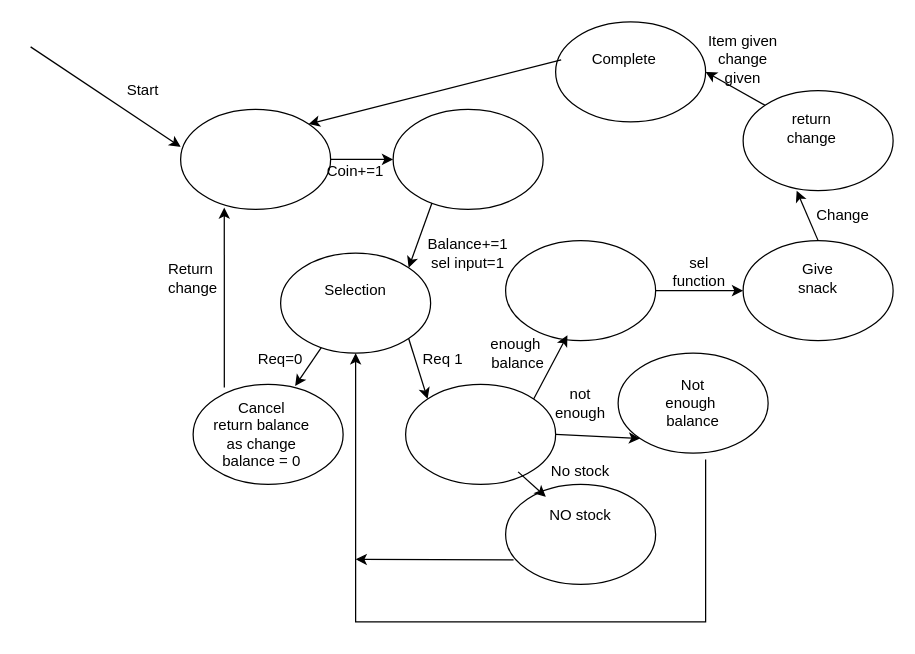
The diagram is 915 pixels wide and 654 high, and some of its shapes have lost their labels. The shapes that lost their labels are listed below. From the top down, each one's centre as x and y in pixels, then its label:
[255,158]: Idle balance=0
[467,158]: Coin balance +=update
[580,290]: Sufficientt balance
[480,433]: Check
